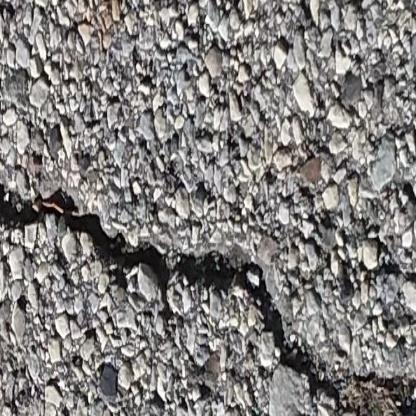Cracks: (0, 163, 416, 416)
